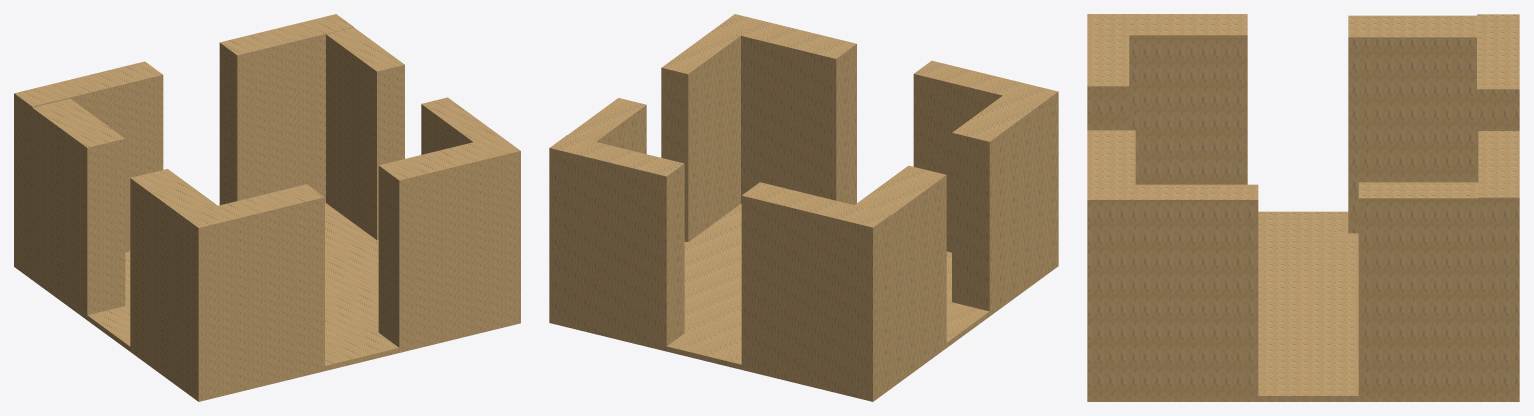
Rendered from steny.fbx.
3 renders of one model, left to right at view 1: azimuth 30°, elevation 25°; view 2: azimuth 150°, elevation 25°; view 3: azimuth 270°, elevation 25°, orthographic. The views are drawn at different scales.
Parts seen in each view (by area): view 1: Group2; view 2: Group2; view 3: Group2.
Part boxes in pixels (x1,y1,x2,y2): Group2: [14, 14, 520, 401]; Group2: [549, 14, 1058, 401]; Group2: [1087, 14, 1519, 401].
Bounding box in the file's own units: 302 × 156 × 300.
Materials: 1 (1 with a texture image).
